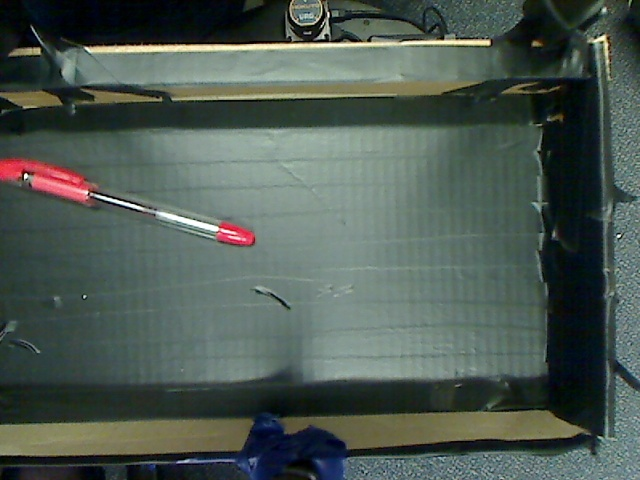pen: (1, 153, 261, 252)
